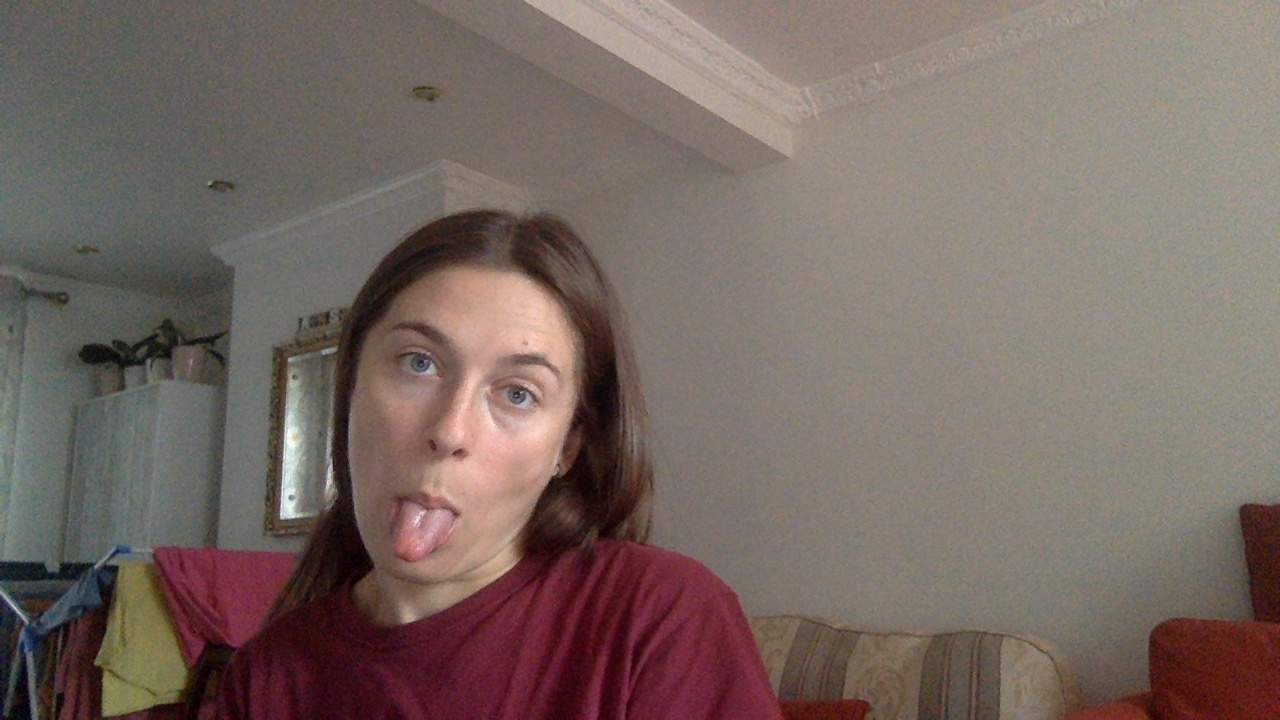tongue: (386, 489, 463, 566)
